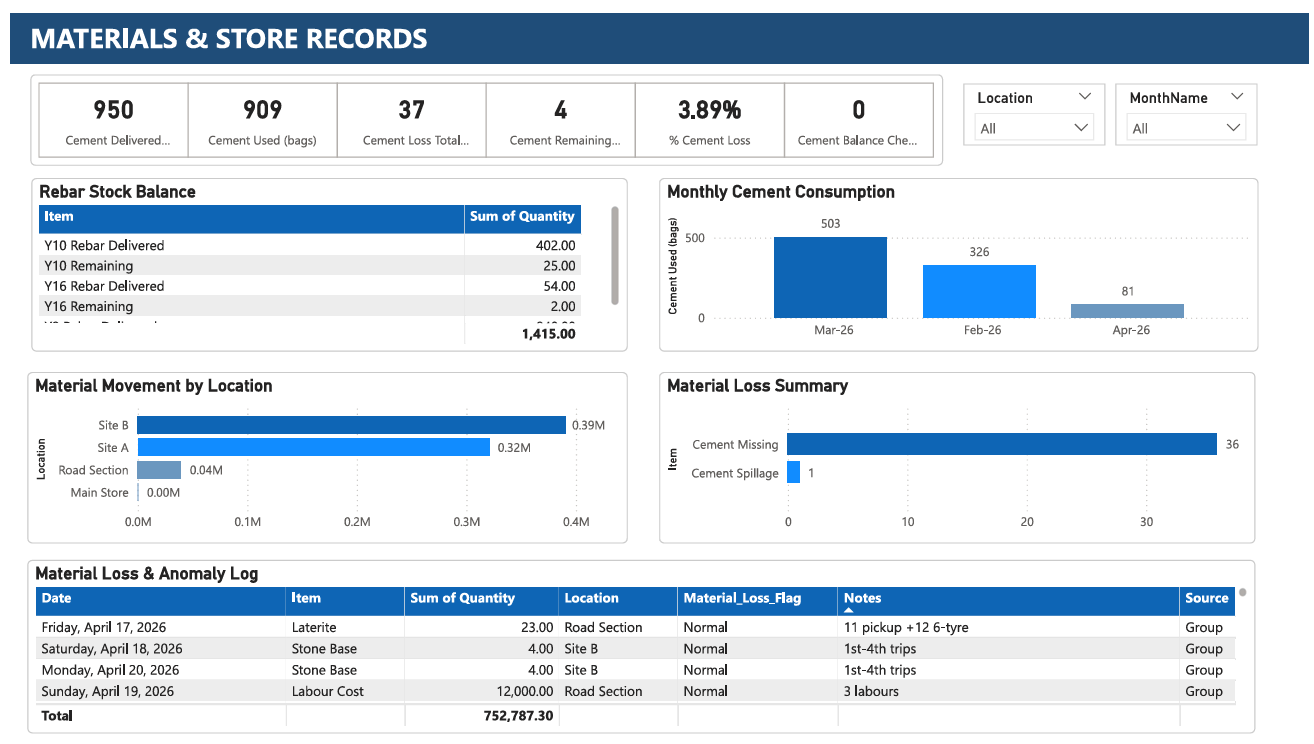

The dashboard page shown, as its layout file describes it:
{"tool":"powerbi","page":{"name":"MATERIALS & STORE RECORDS","canvas":[1280,720],"ordinal":2},"visuals":[{"type":"textbox","box":[0,165,450,30],"z":0},{"type":"shape","box":[0,0,1280,50],"z":1000},{"type":"textbox","box":[0,0,1280,50],"z":2000},{"type":"slicer","fields":{"Values":["Site_Log.Location"]},"box":[939.6,68.9,140.7,61],"z":3000},{"type":"slicer","fields":{"Values":["DateTable.MonthName"]},"box":[1089.7,68.9,140.7,61],"z":4000},{"type":"cardVisual","fields":{"Data":["_Measures.Cement Delivered (bags)","_Measures.Cement Used (bags)","_Measures.Cement Loss Total (bags)","_Measures.Cement Remaining Reported (bags)","_Measures.% Cement Loss","_Measures.Cement Balance Check (bags)"]},"box":[20,60,900,90],"z":5000},{"type":"pivotTable","title":"Rebar Stock Balance","fields":{"Rows":["Site_Log.Item"],"Values":["Sum(Site_Log.Quantity)"]},"box":[20.7,162.1,587.9,170.7],"z":6000},{"type":"clusteredColumnChart","title":"Monthly Cement Consumption","fields":{"Y":["_Measures.Cement Used (bags)"],"Category":["DateTable.MonthName"]},"box":[639.7,162.1,591.4,170.7],"z":8000},{"type":"clusteredBarChart","title":"Material Movement by Location","fields":{"Y":["Sum(Site_Log.Quantity)"],"Category":["Site_Log.Location"]},"box":[17.2,353.4,591.4,169],"z":9000},{"type":"clusteredBarChart","title":"Material Loss Summary","fields":{"Category":["Site_Log.Item"],"Y":["Sum(Site_Log.Quantity)"]},"box":[639.7,353.4,587.9,169],"z":10000},{"type":"tableEx","title":"Material Loss & Anomaly Log","fields":{"Values":["Site_Log.Date","Site_Log.Item","Sum(Site_Log.Quantity)","Site_Log.Location","Site_Log.Material_Loss_Flag","Site_Log.Notes","Site_Log.Source"]},"box":[17.2,537.9,1210.3,170.7],"z":10001}]}

Visuals, with their boxes in screenshot pixels (x1, y1, x2, y2), scaled from the page's 1280x720 canvas onto the 1314x744 screenshot:
textbox: region(0, 171, 462, 202)
shape: region(0, 0, 1313, 52)
textbox: region(0, 0, 1313, 52)
slicer - Site_Log.Location: region(965, 71, 1109, 134)
slicer - DateTable.MonthName: region(1119, 71, 1263, 134)
cardVisual - _Measures.Cement Delivered (bags) x _Measures.Cement Used (bags): region(21, 62, 944, 155)
"Rebar Stock Balance" pivotTable: region(21, 168, 625, 344)
"Monthly Cement Consumption" clusteredColumnChart: region(657, 168, 1264, 344)
"Material Movement by Location" clusteredBarChart: region(18, 365, 625, 540)
"Material Loss Summary" clusteredBarChart: region(657, 365, 1260, 540)
"Material Loss & Anomaly Log" tableEx: region(18, 556, 1260, 732)
